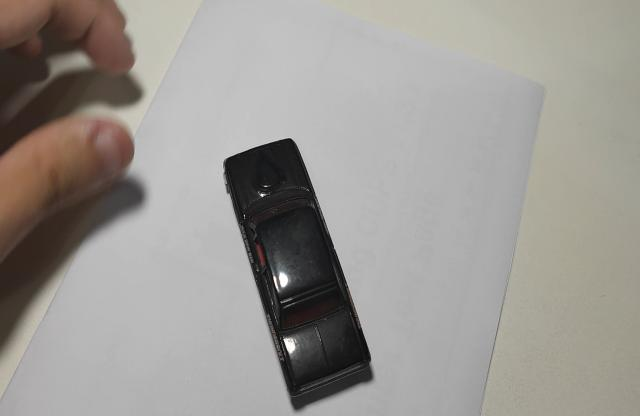01_FORD: (222, 139, 375, 406)
